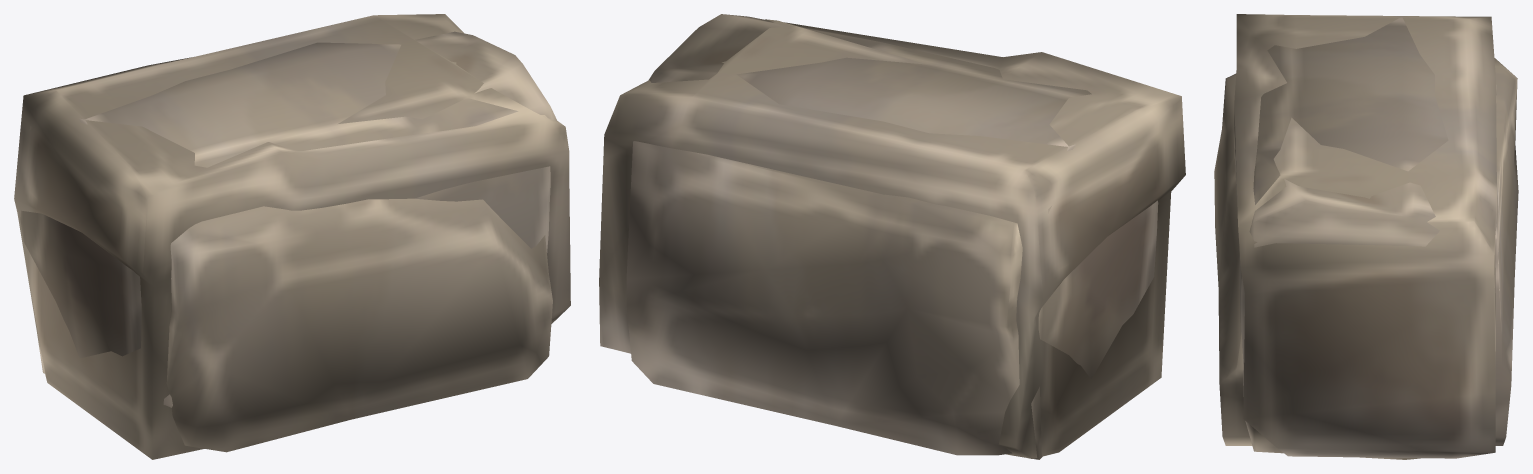
File: prop_bricks.glb
3 renders of one model, left to right at view 1: azimuth 30°, elevation 25°; view 2: azimuth 150°, elevation 25°; view 3: azimuth 270°, elevation 25°, orthographic. The views are drawn at different scales.
Parts seen in each view (by area): view 1: prop_bricks; view 2: prop_bricks; view 3: prop_bricks.
Boxes of the visible parts, <box> form: prop_bricks: <box>14,14,570,459</box>; prop_bricks: <box>599,14,1185,459</box>; prop_bricks: <box>1214,14,1518,459</box>.
Bounding box in the file's own units: 39.54 × 24.97 × 25.02.
Materials: 1 (1 with a texture image).
